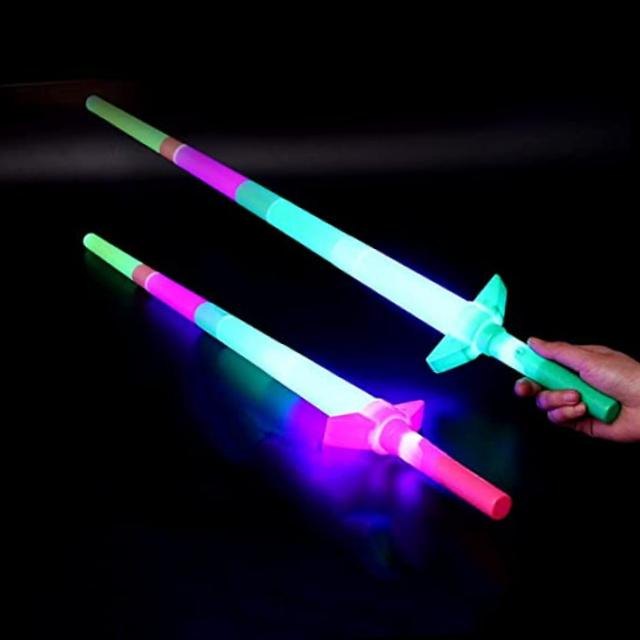Weapon: (80, 64, 632, 457), (76, 206, 518, 546)
